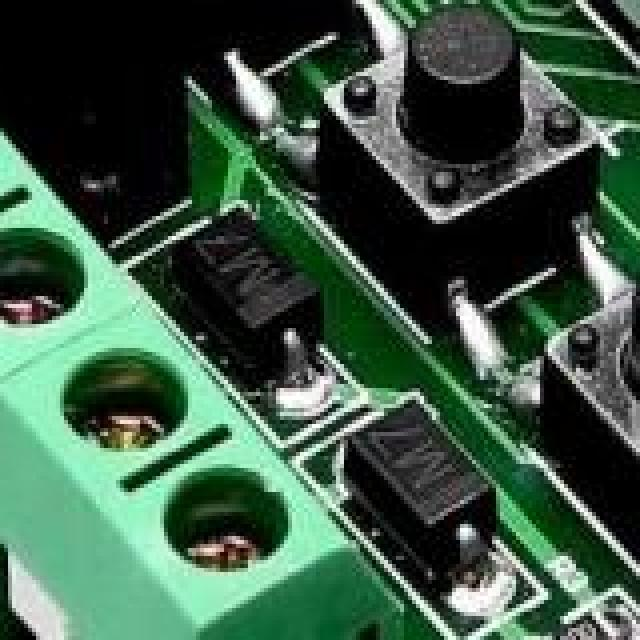IC: (624, 608, 640, 640)
connector: (0, 60, 336, 640)
diode: (172, 176, 324, 350), (360, 396, 490, 576)
display: (468, 0, 640, 124)
relay: (0, 0, 164, 40)
resistor: (544, 588, 628, 640)
switch: (360, 0, 592, 204), (564, 240, 640, 480)
